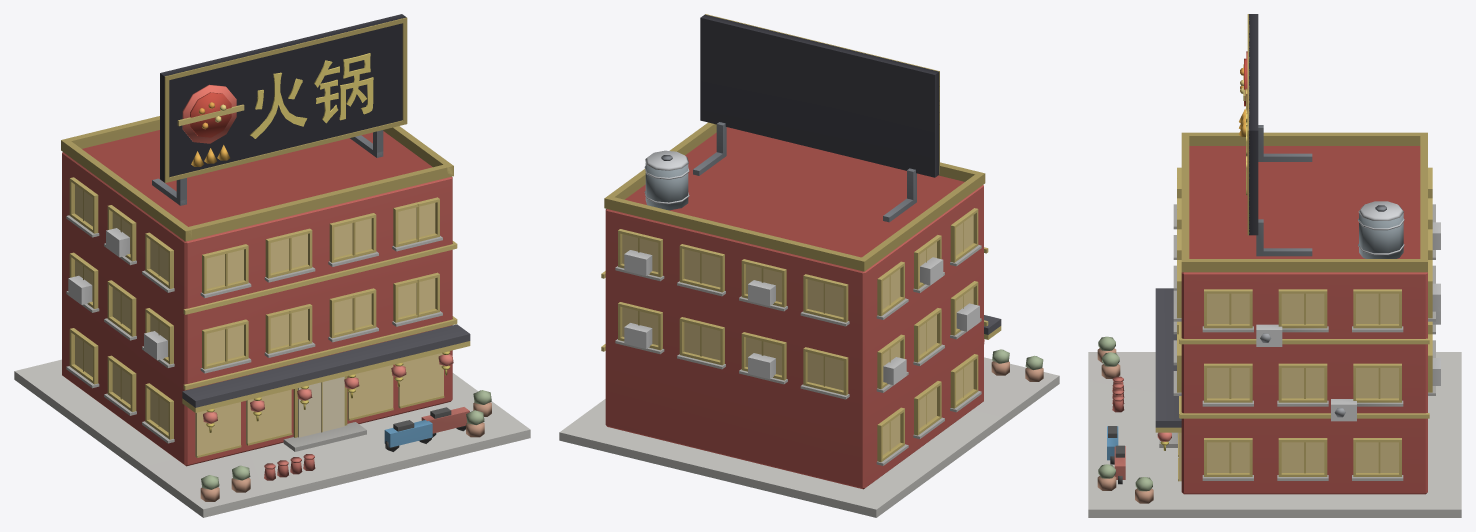
The model's file is hotpot.glb.
3 renders of one model, left to right at view 1: azimuth 30°, elevation 25°; view 2: azimuth 150°, elevation 25°; view 3: azimuth 270°, elevation 25°, orthographic. The views are drawn at different scales.
Visible parts, largest first — view 1: hotpot; view 2: hotpot; view 3: hotpot.
Part boxes in pixels (x1,y1,x2,y2): hotpot: (14, 14, 530, 517); hotpot: (559, 14, 1059, 517); hotpot: (1088, 14, 1461, 517).
Bounding box in the file's own units: 2 × 2.17 × 2.
